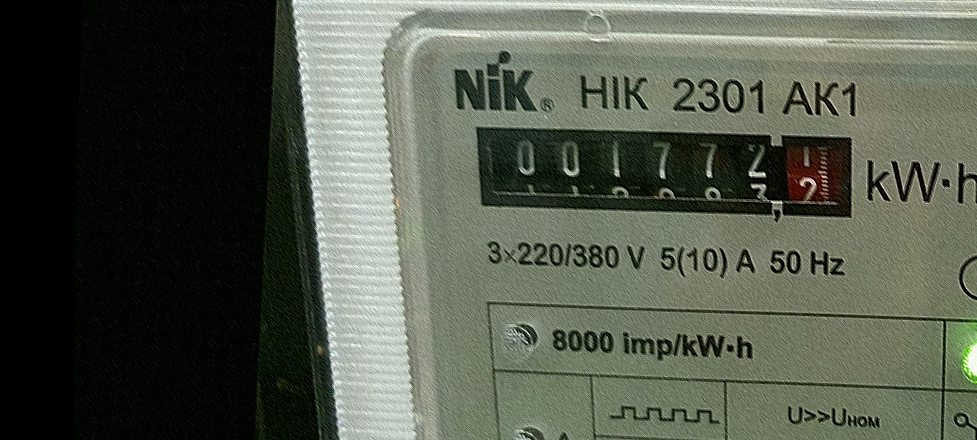0: (511, 135, 540, 176), (558, 137, 583, 177)
1: (607, 138, 625, 178), (799, 144, 814, 170)
2: (745, 142, 770, 180), (795, 174, 819, 203)
3: (748, 180, 771, 203)
7: (650, 139, 674, 181), (696, 140, 719, 180)
screen: (461, 107, 873, 236)
